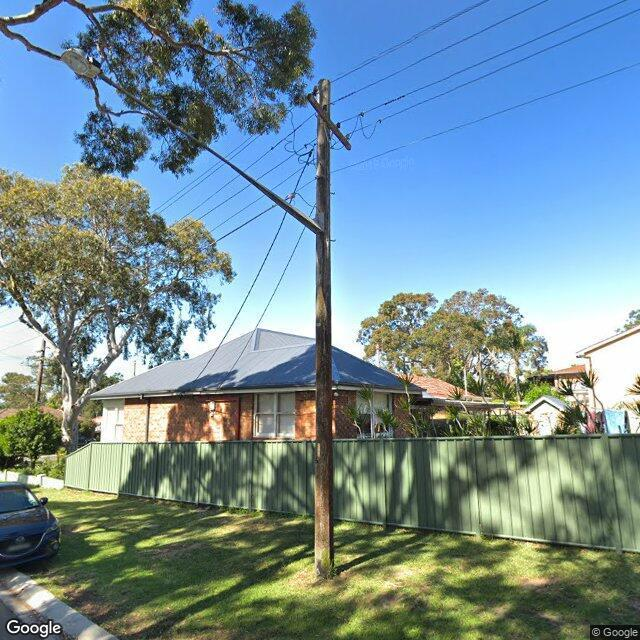crossarm: (305, 92, 353, 151)
streetlight: (61, 46, 324, 238)
timber-pole: (316, 78, 336, 579), (36, 339, 48, 403)
